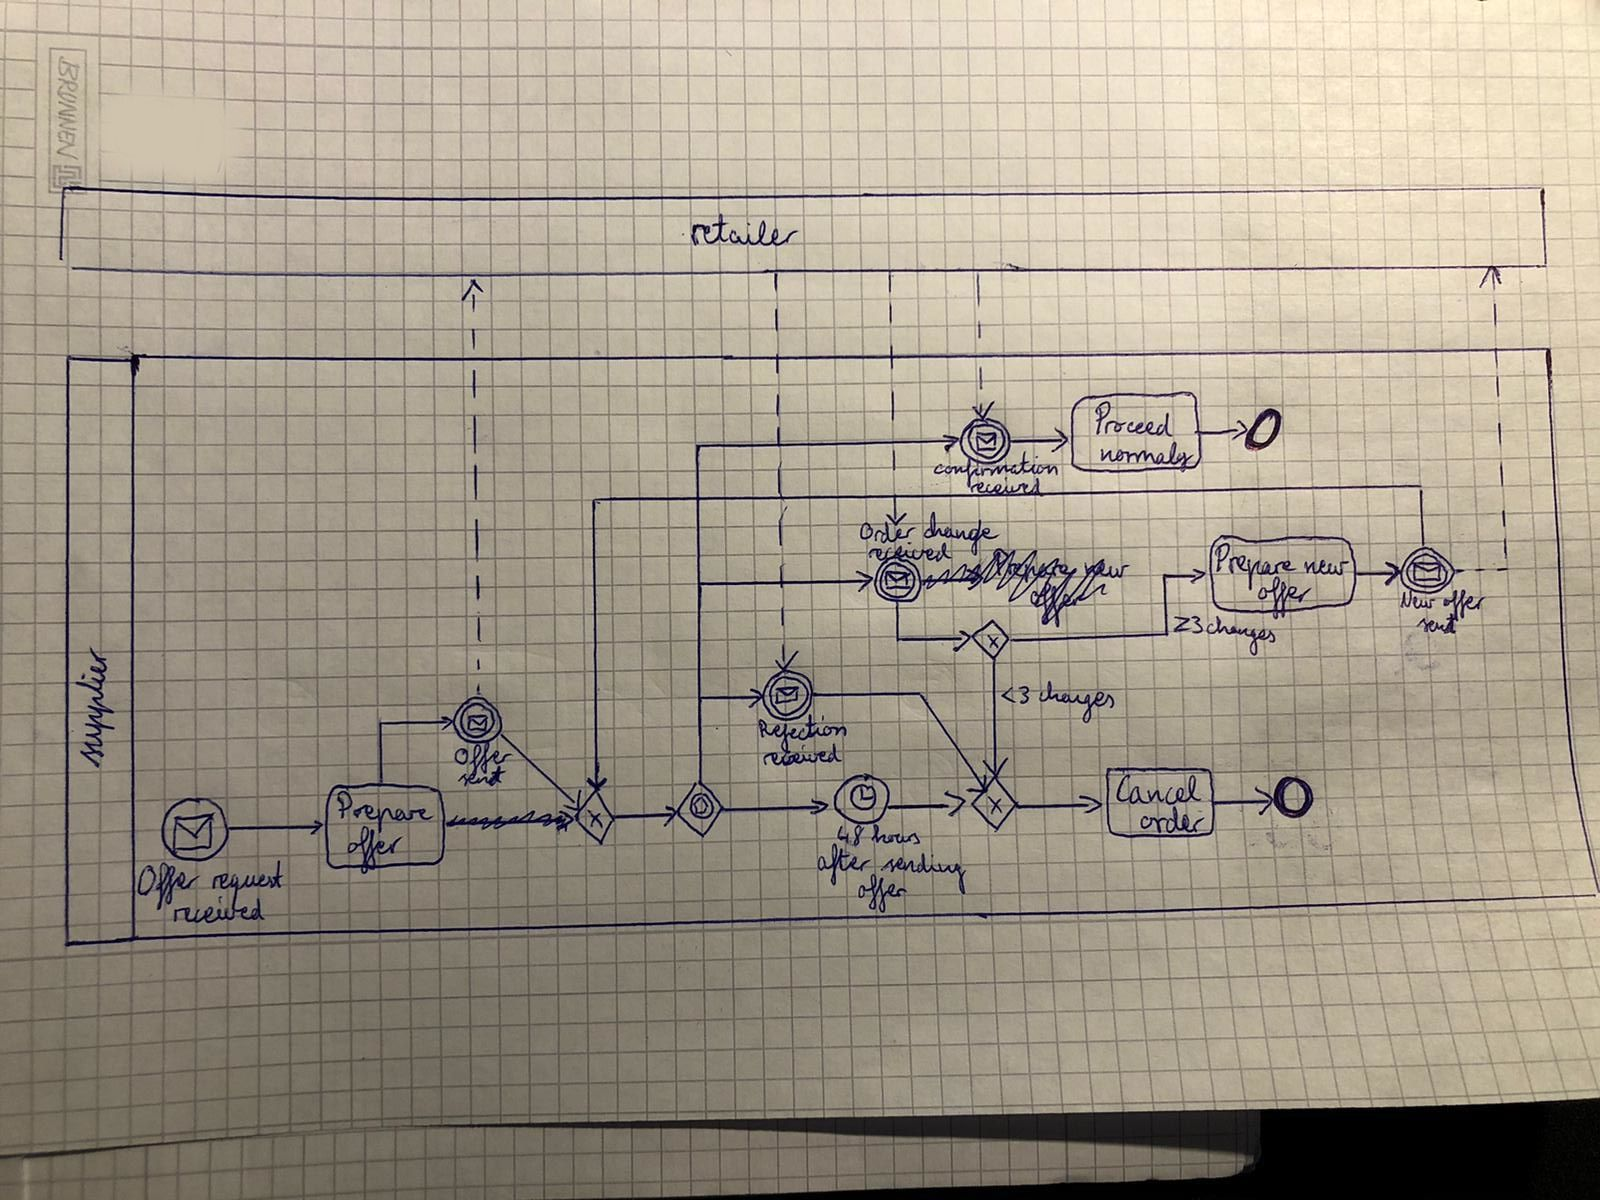48: (831, 821, 868, 850)
<3: (998, 684, 1041, 710)
>=3: (1170, 613, 1204, 642)
Cancel: (1117, 776, 1201, 805)
New: (1400, 587, 1439, 615)
Offer: (450, 737, 518, 774), (134, 863, 197, 894)
Order: (854, 516, 920, 543)
Prepare: (1209, 539, 1293, 587), (334, 793, 430, 822)
Rejection: (756, 717, 853, 742)
after: (813, 848, 876, 880)
change: (925, 509, 994, 555)
changes: (1203, 616, 1281, 655), (1039, 683, 1107, 715)
confirmation: (929, 454, 1060, 483)
hours: (868, 822, 926, 850)
new: (1300, 552, 1349, 584)
normaly: (1104, 442, 1191, 471)
offer: (1256, 577, 1317, 615), (854, 874, 907, 915), (341, 829, 406, 861), (1437, 587, 1478, 615)
order: (1131, 805, 1214, 838)
proceed: (1089, 402, 1180, 439)
received: (860, 541, 959, 568), (963, 473, 1049, 500), (170, 897, 270, 921), (762, 746, 843, 773)
request: (209, 857, 283, 889)
retailer: (685, 211, 804, 250)
send: (1414, 619, 1456, 638)
sending: (881, 855, 976, 892)
sent: (452, 766, 511, 799)
supplier: (71, 650, 123, 766)
